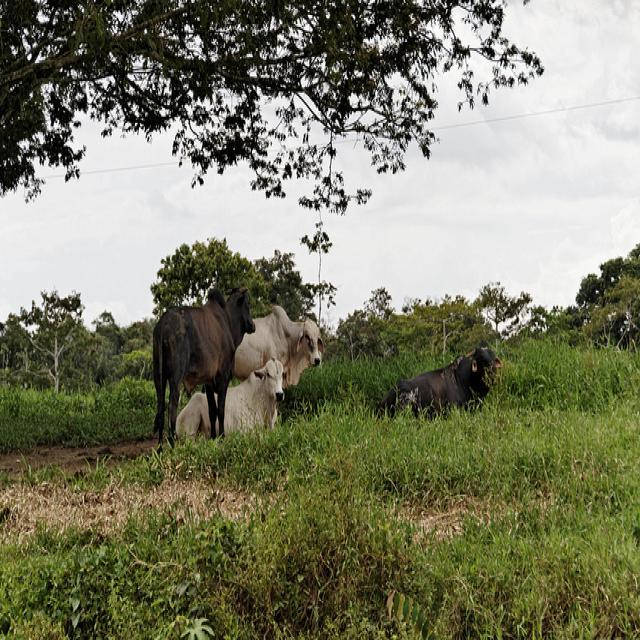cow: (148, 286, 255, 466), (374, 345, 501, 420), (174, 355, 287, 438), (234, 298, 322, 385)
